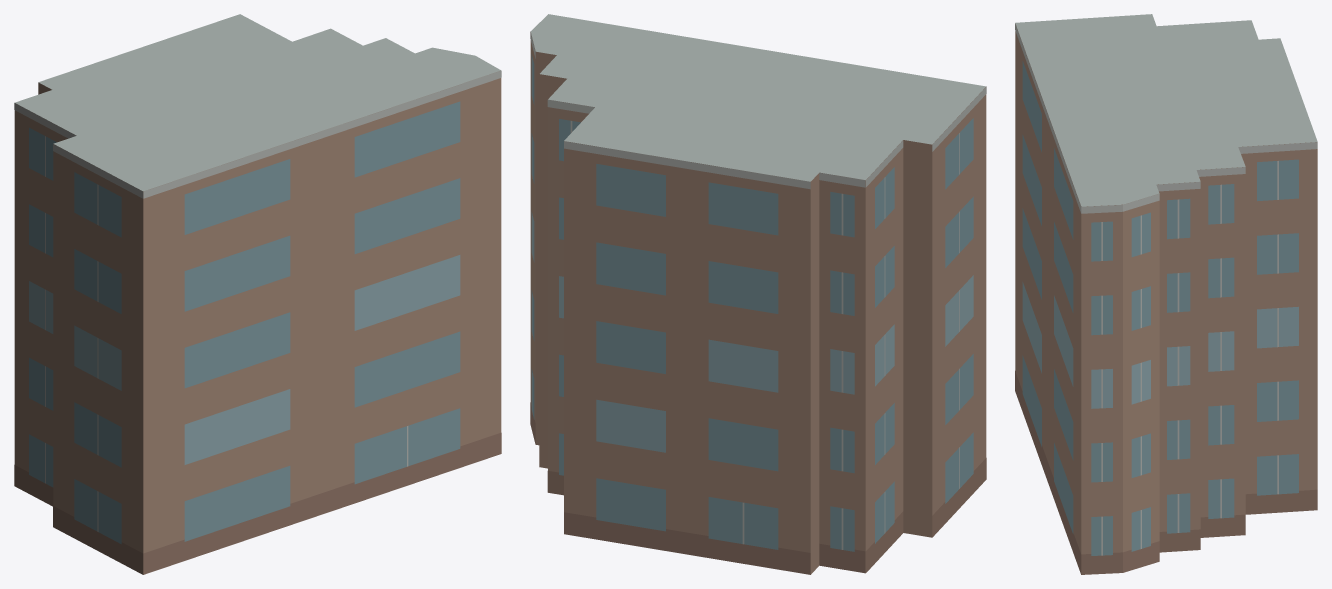
The model's file is survey-upis-32998875.glb.
3 renders of one model, left to right at view 1: azimuth 30°, elevation 25°; view 2: azimuth 150°, elevation 25°; view 3: azimuth 270°, elevation 25°, orthographic. The views are drawn at different scales.
Parts seen in each view (by area): view 1: survey-upis-32998875.tmp; view 2: survey-upis-32998875.tmp; view 3: survey-upis-32998875.tmp.
Boxes of the visible parts, x1,y1,x2,y2 form: survey-upis-32998875.tmp: (14,14,501,574); survey-upis-32998875.tmp: (530,14,986,574); survey-upis-32998875.tmp: (1015,14,1317,574).
Size of the model in its own units: 14.27 by 12.7 by 9.47.
